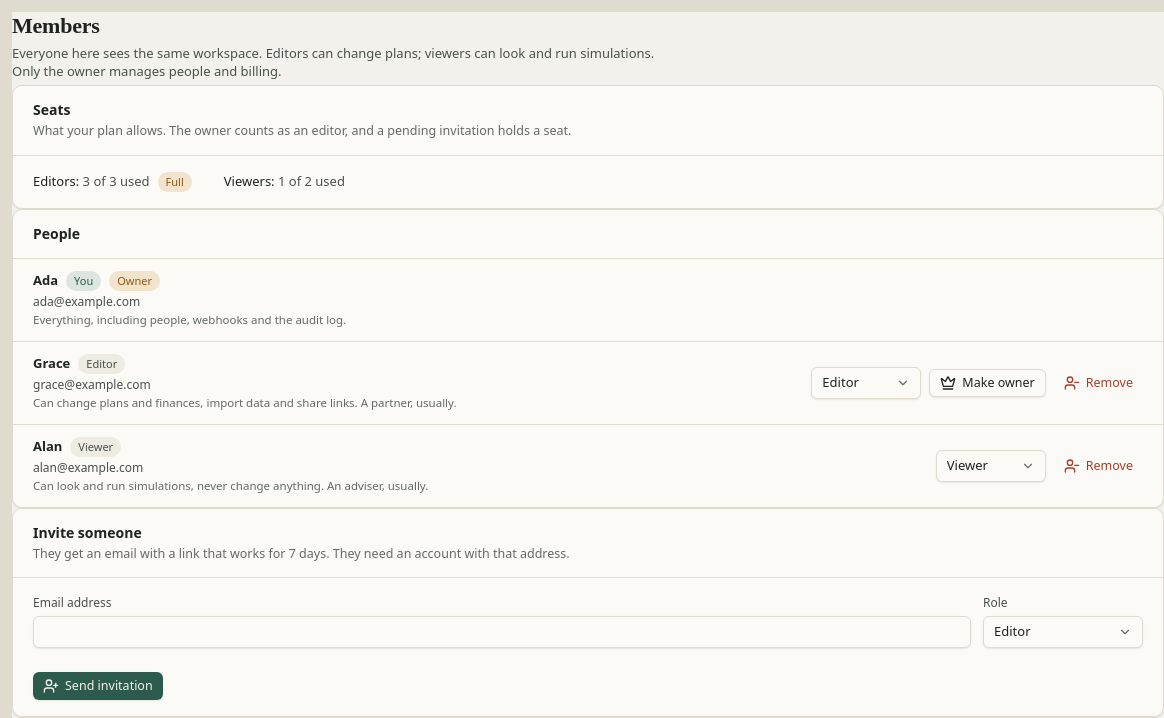
members and invitations › invites by email with a role, and refuses before asking the server when every seat is taken
In the field labelled "Email address": (502, 632) [33,616,971,648], type "new@example.com"
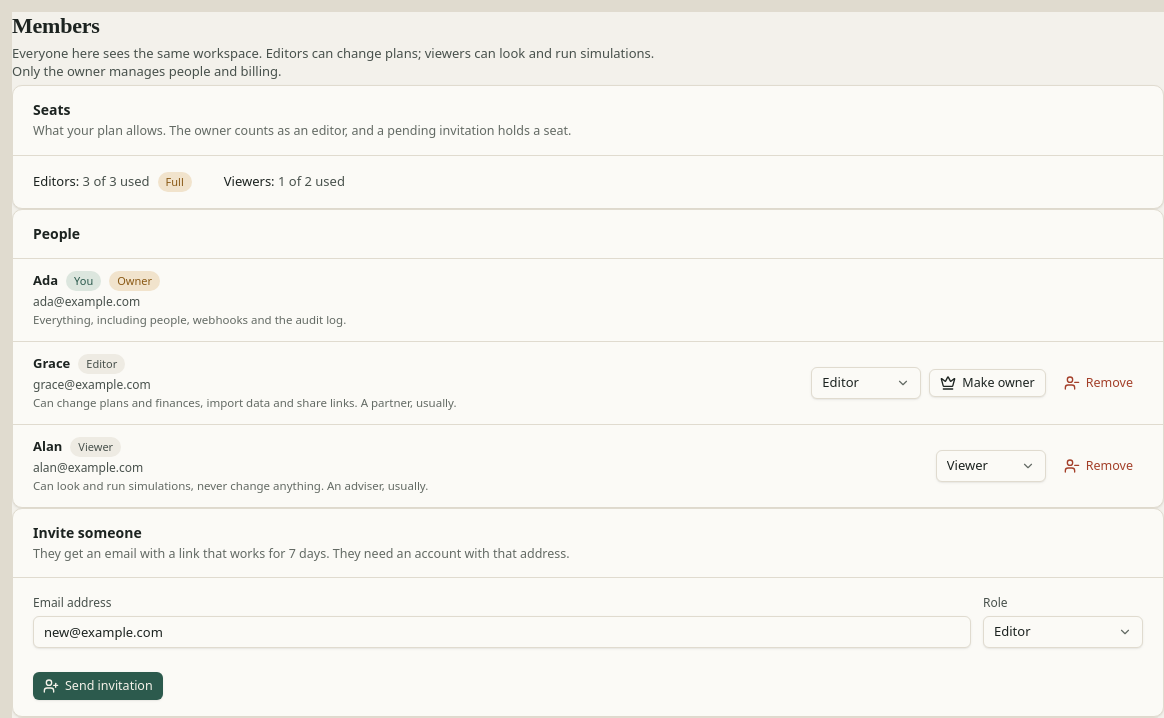
Click the button "Send invitation": (98, 686) [33,672,163,700]
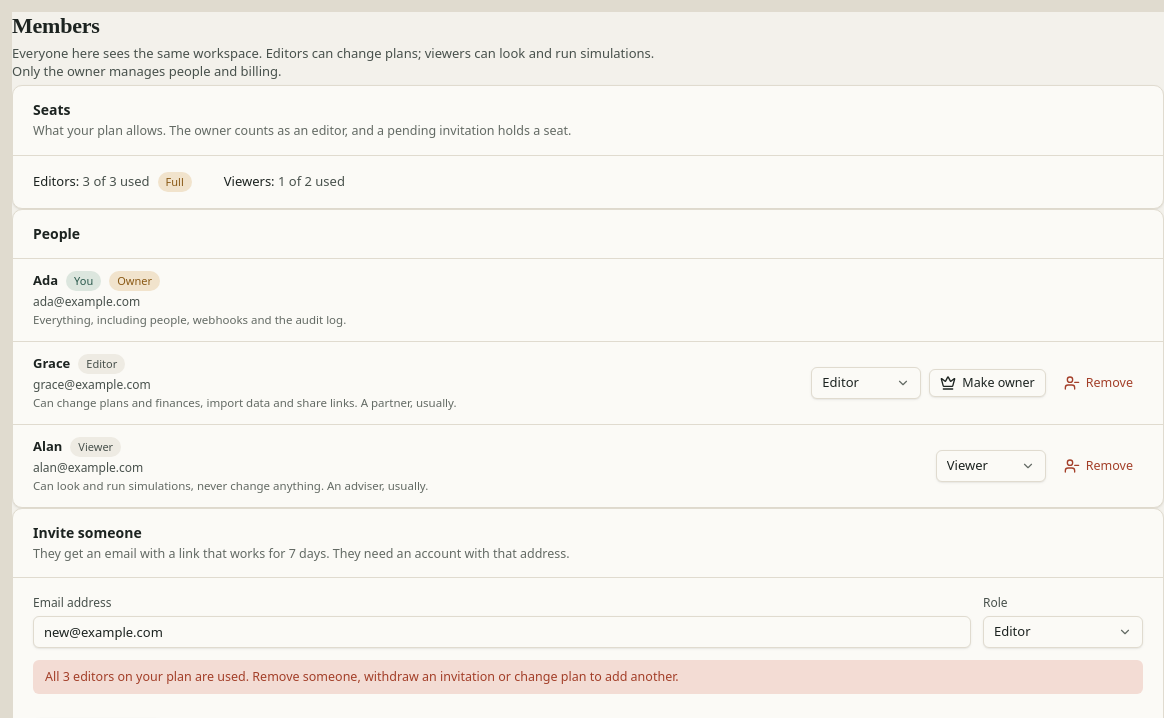
Expected: the text "All 3 editors on your plan are used" is shown, [45,668,679,685]
